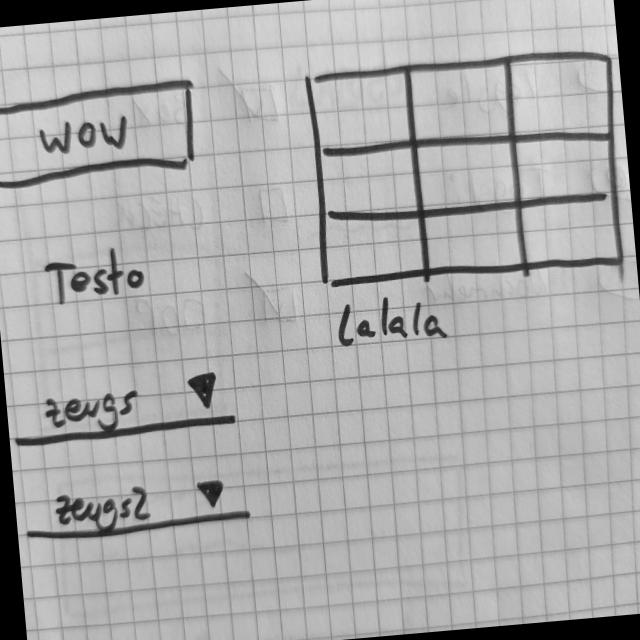button: (1, 74, 204, 194)
label: (332, 287, 450, 352), (41, 244, 148, 308)
select: (9, 365, 242, 453), (18, 468, 256, 546)
table: (302, 43, 631, 297)
